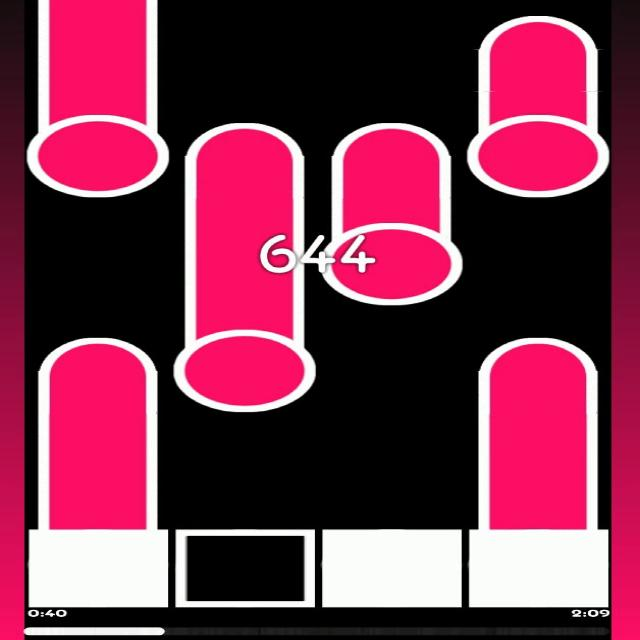end_hold: (35, 312, 162, 385), (472, 318, 602, 387), (178, 108, 312, 171), (473, 5, 603, 64), (324, 116, 452, 170)
start_hold: (176, 304, 315, 411), (322, 209, 466, 306), (28, 96, 164, 198), (468, 108, 612, 200)
